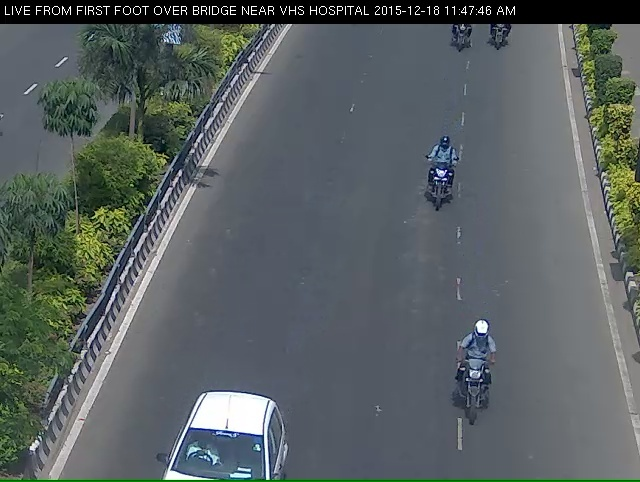Person: (454, 348, 495, 467), (419, 151, 457, 233), (444, 18, 476, 68), (487, 23, 517, 63)
